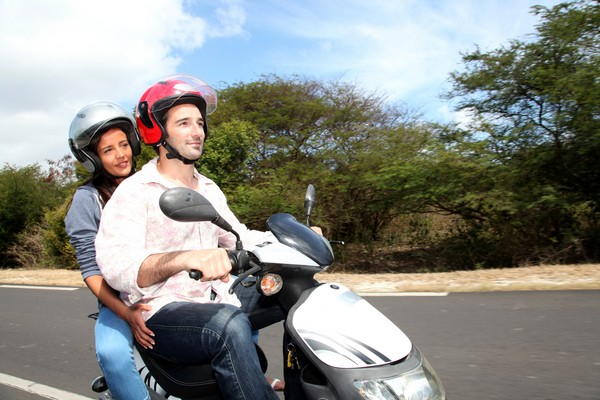helmet: (128, 86, 219, 136), (67, 103, 140, 161)
